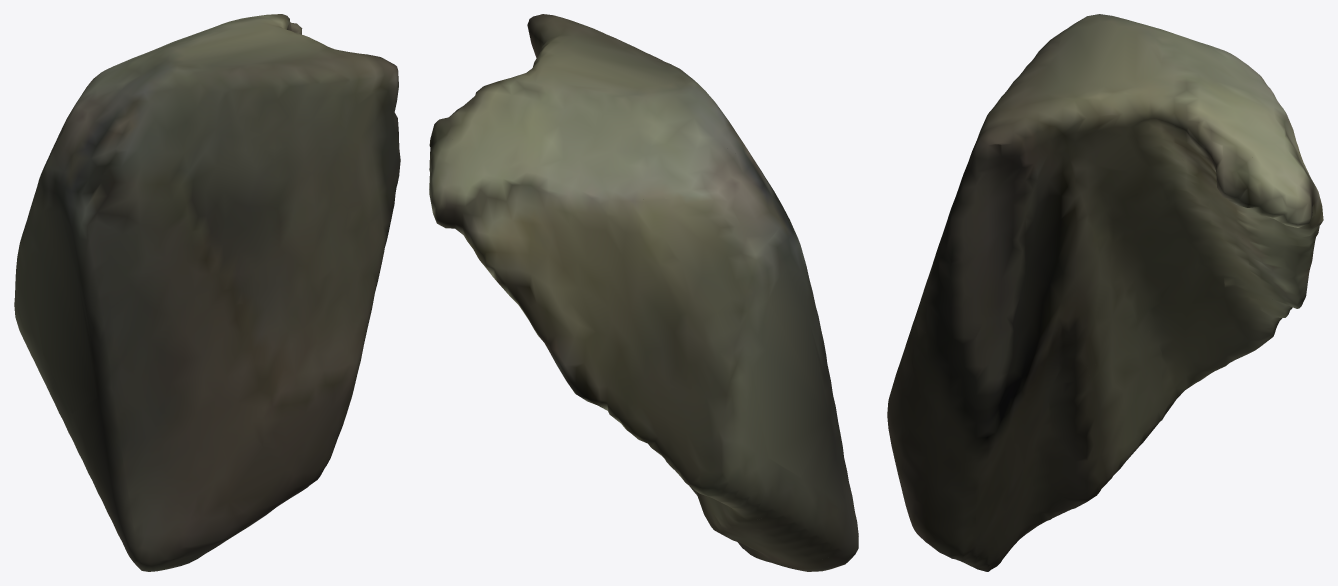
3 renders of one model, left to right at view 1: azimuth 30°, elevation 25°; view 2: azimuth 150°, elevation 25°; view 3: azimuth 270°, elevation 25°, orthographic. The views are drawn at different scales.
Parts seen in each view (by area): view 1: Multiview fitted textile rest surface; view 2: Multiview fitted textile rest surface; view 3: Multiview fitted textile rest surface.
Part boxes in pixels (x1=…): Multiview fitted textile rest surface: x1=14, y1=14, x2=400, y2=571; Multiview fitted textile rest surface: x1=429, y1=14, x2=858, y2=571; Multiview fitted textile rest surface: x1=887, y1=14, x2=1323, y2=571.
Bounding box in the file's own units: 0.1237 × 0.19 × 0.1312.
